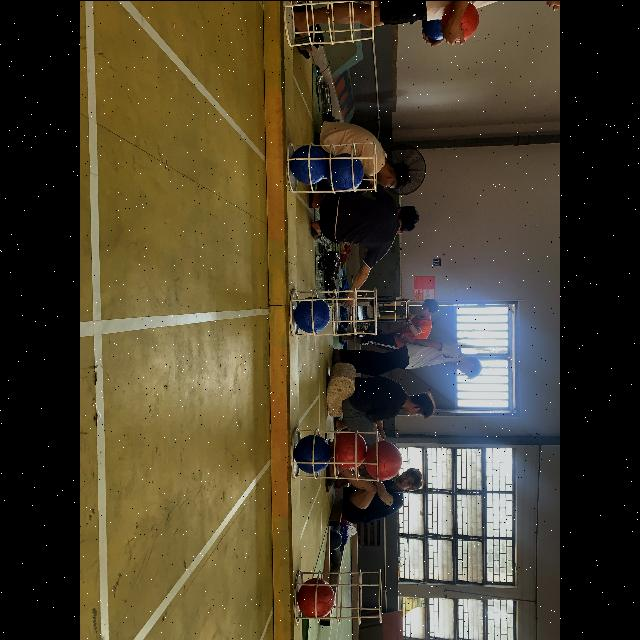B: (288, 142, 328, 184), (292, 434, 332, 472), (327, 153, 365, 191), (294, 296, 330, 332), (420, 15, 444, 43)
R: (296, 578, 334, 618), (363, 441, 402, 479), (443, 0, 479, 40), (332, 428, 366, 468)
